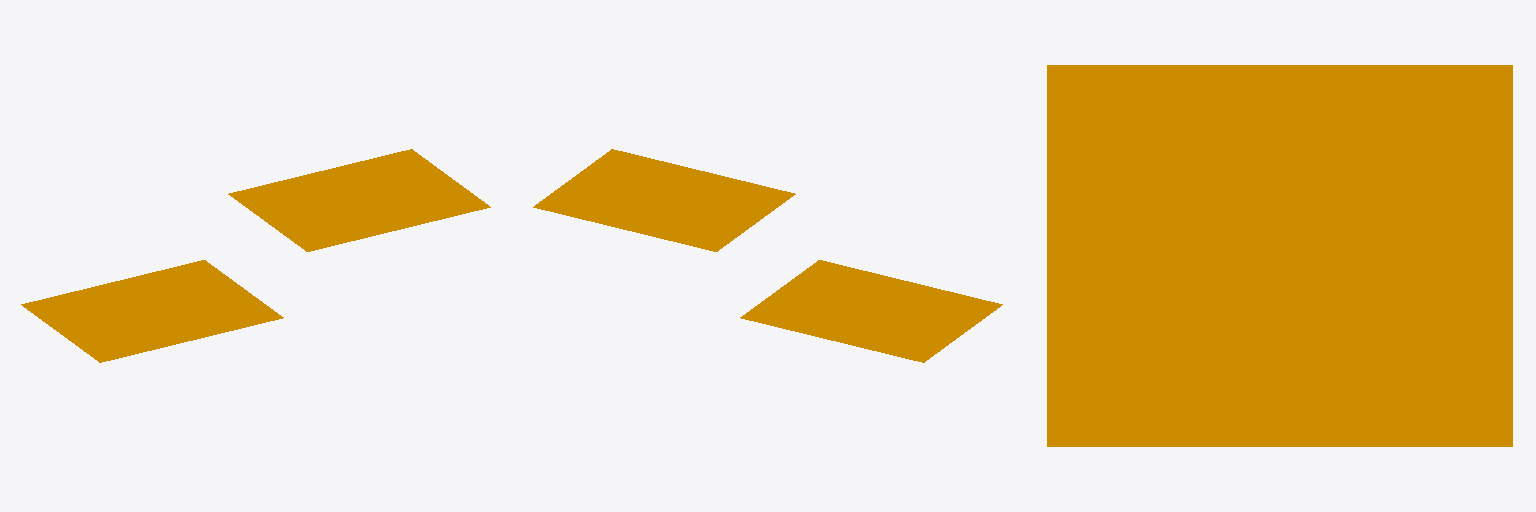
URDF robot description (obj_material_panels):
<robot name="obj_material_panels">
  <link name="base">
    <visual>
      <origin xyz="0 0 0.3" rpy="0 0 0"/>
      <geometry><mesh filename="materials/panels.obj" scale="1 1 1"/></geometry>
    </visual>
  </link>
</robot>

--- Render facts (derived) ---
Views: 3 orthographic renders of the robot side by side, from view 1: azimuth 30°, elevation 25°; view 2: azimuth 150°, elevation 25°; view 3: azimuth 270°, elevation 25°.
Model obj_material_panels with 1 links and 0 joints (none), rooted at base, posed all joints at 0.
Visible links, largest first — view 1: base; view 2: base; view 3: base.
Link boxes in pixels (x1=…): base: x1=21, y1=149, x2=490, y2=362; base: x1=533, y1=149, x2=1002, y2=362; base: x1=1047, y1=65, x2=1512, y2=446.
Size in the robot's own frame: 1.7 by 0.6 by 0.25 metres.
Meshes: 1 distinct files referenced, 1 mesh visuals loaded (1 OBJ).
